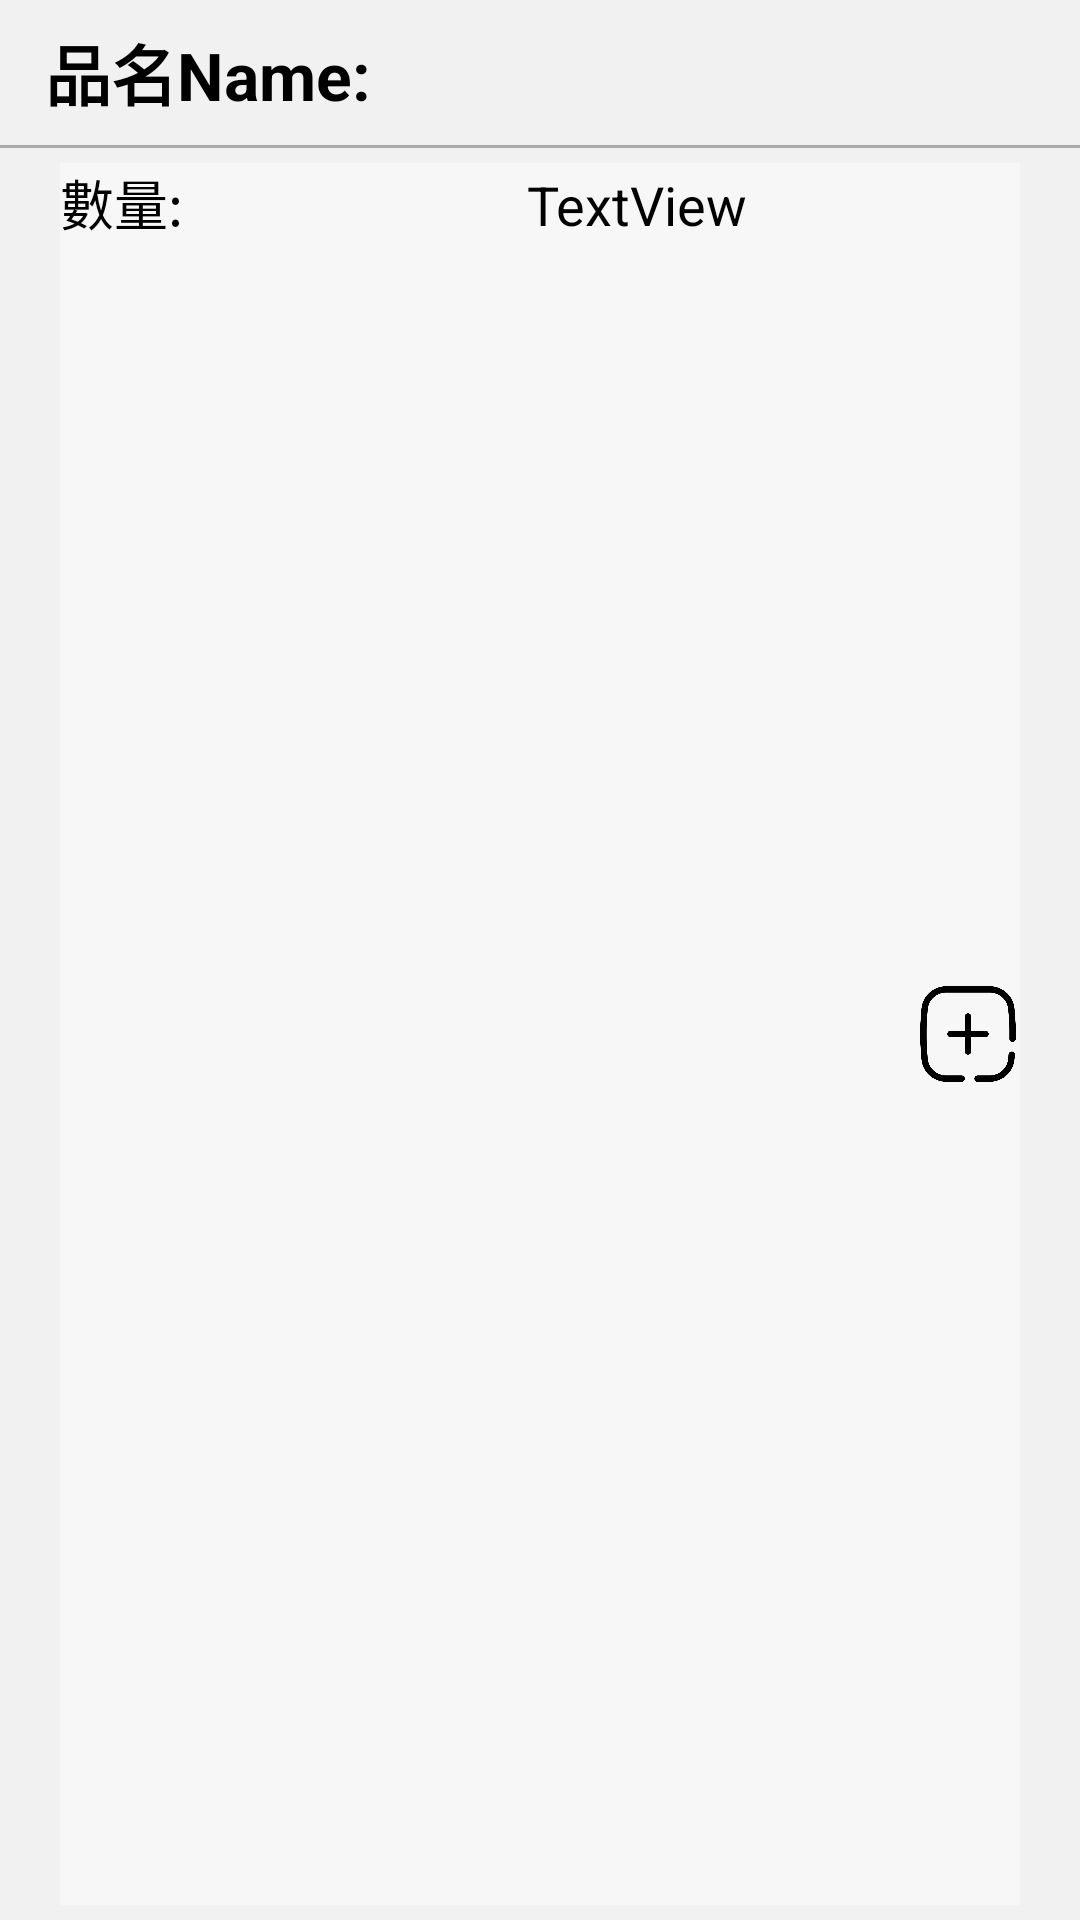

Icons on this 1080px×1920px Android screen, each with the point to tap as (x,y):
plus: (968,1034)
